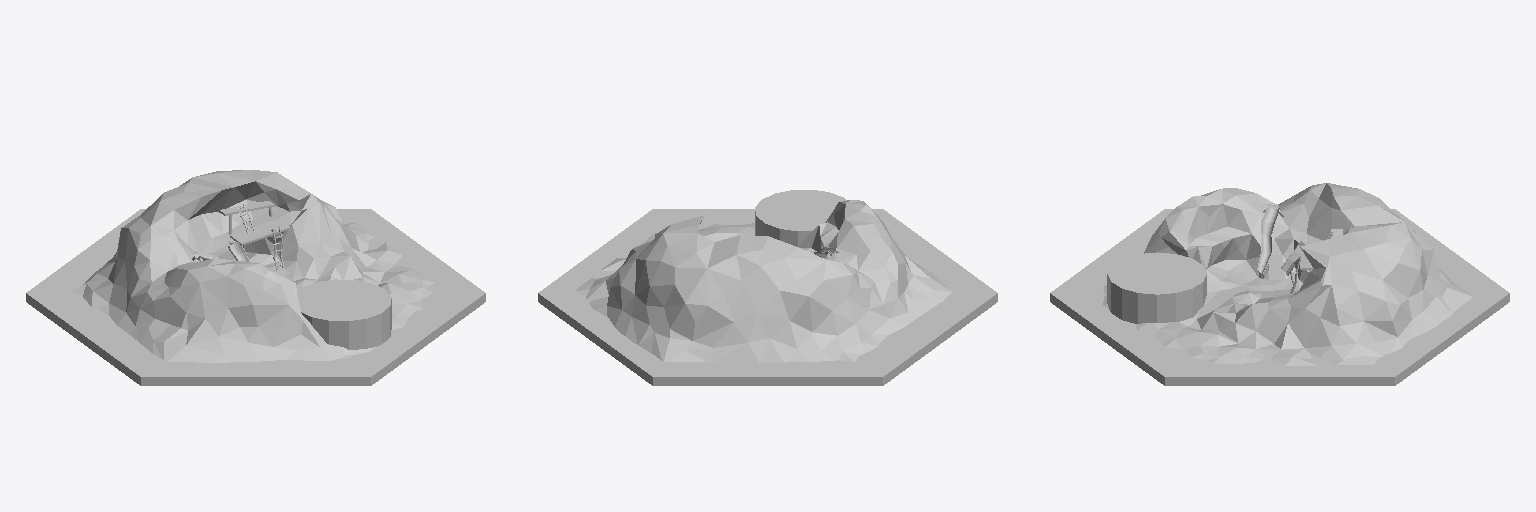
Rendered from clay.obj.
3 views of the same model, side by side, from view 1: azimuth 30°, elevation 25°; view 2: azimuth 150°, elevation 25°; view 3: azimuth 270°, elevation 25° (orthographic).
Visible parts, largest first — view 1: Combined_Cylinder.017; view 2: Combined_Cylinder.017; view 3: Combined_Cylinder.017.
Part boxes in pixels (x1,y1,x2,y2): Combined_Cylinder.017: (26, 170, 485, 385); Combined_Cylinder.017: (538, 190, 997, 385); Combined_Cylinder.017: (1050, 183, 1509, 385).
Size of the model in its own units: 3.98 by 1.02 by 4.6.